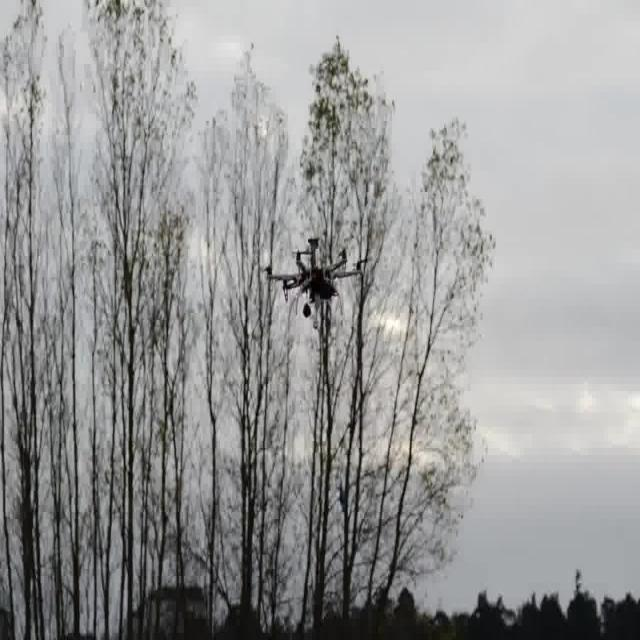Drone_FW: (264, 235, 364, 329)
